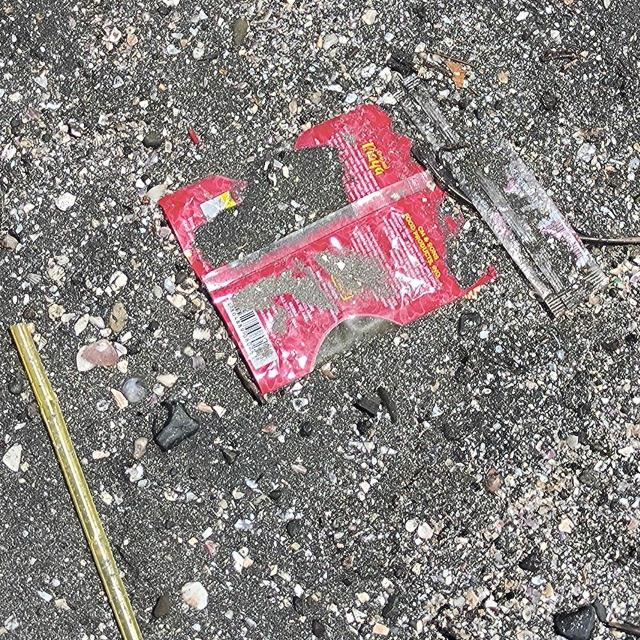plastic_waste: (157, 102, 501, 399), (8, 319, 144, 640)
